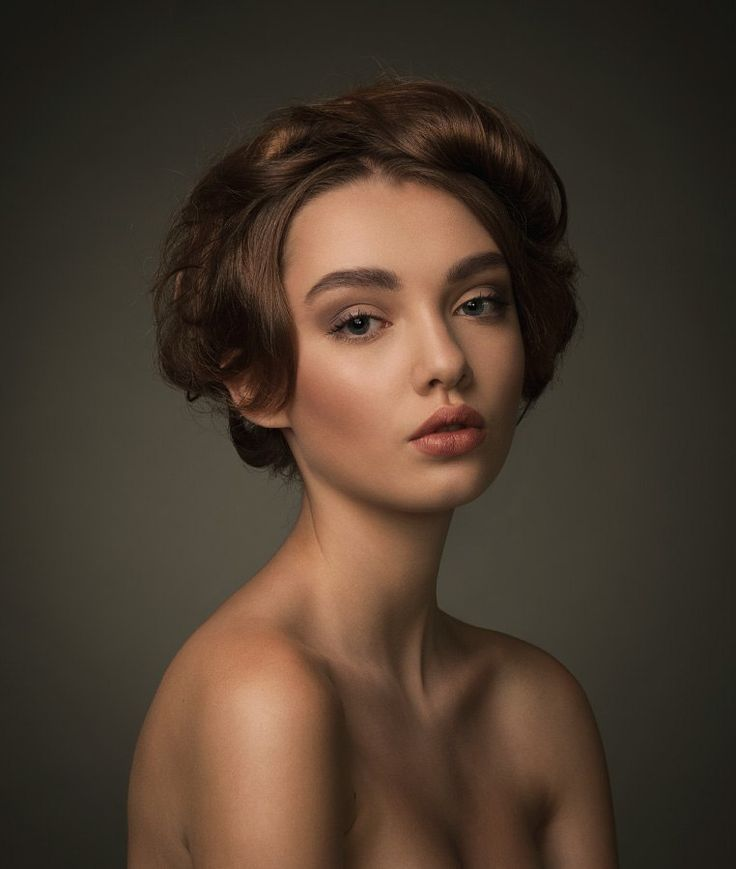without_mask: (287, 206, 519, 493)
